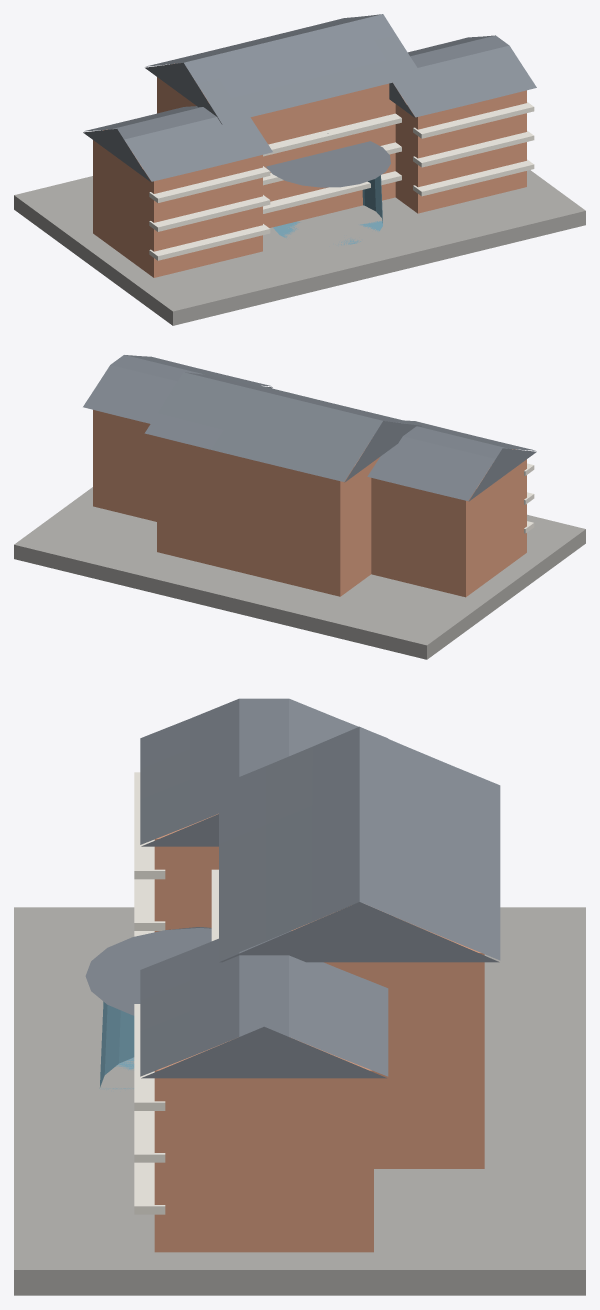
Rendered from lm_78_terracotta_hotel_resort_tuyen_lam_pine_peninsula.glb.
3 renders of one model, top to bottom at view 1: azimuth 30°, elevation 25°; view 2: azimuth 150°, elevation 25°; view 3: azimuth 270°, elevation 25°, orthographic. The views are drawn at different scales.
Parts seen in each view (by area): view 1: lm_78_terracotta_hotel_resort_tuyen_lam_pine_peninsula; view 2: lm_78_terracotta_hotel_resort_tuyen_lam_pine_peninsula; view 3: lm_78_terracotta_hotel_resort_tuyen_lam_pine_peninsula.
Part boxes in pixels (x1,y1,x2,y2): lm_78_terracotta_hotel_resort_tuyen_lam_pine_peninsula: [14, 14, 585, 325]; lm_78_terracotta_hotel_resort_tuyen_lam_pine_peninsula: [14, 355, 585, 659]; lm_78_terracotta_hotel_resort_tuyen_lam_pine_peninsula: [14, 698, 585, 1295].
Size of the model in its own units: 36 by 13.9 by 24.
